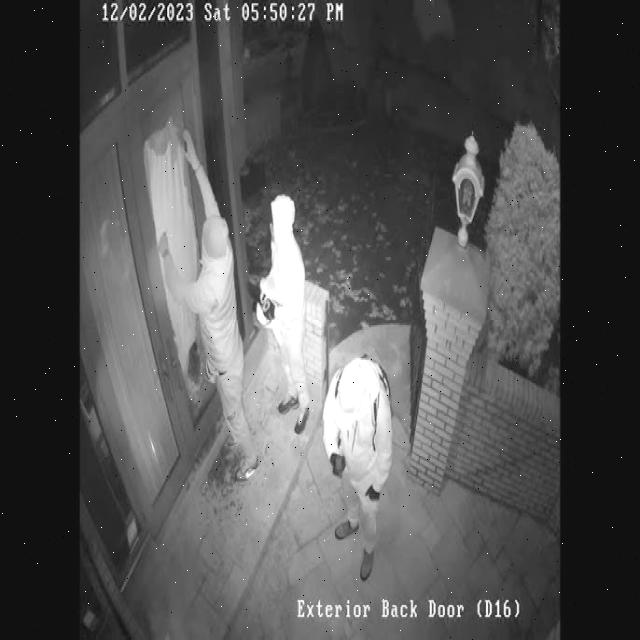standing: (159, 133, 257, 478), (323, 355, 392, 579), (257, 194, 310, 433)
